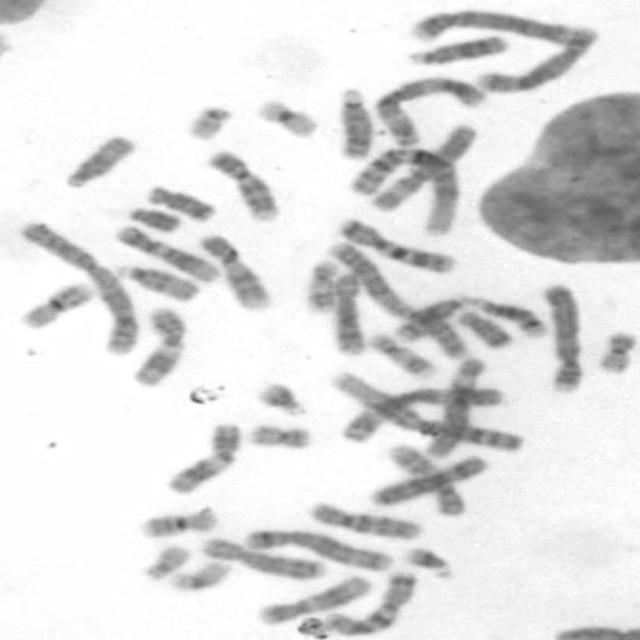A1: (322, 368, 529, 453), (341, 143, 461, 238)
A2: (322, 238, 468, 360), (15, 218, 142, 356)
A3: (335, 384, 504, 446), (368, 73, 489, 147)
B4: (402, 6, 584, 45), (534, 279, 586, 393)
B5: (237, 524, 395, 573), (478, 32, 602, 92)
C10: (381, 442, 472, 520), (304, 498, 426, 541)
C11: (160, 418, 244, 496), (125, 300, 191, 389)
C12: (112, 222, 224, 284), (250, 572, 372, 627)
C6: (362, 120, 480, 214), (418, 354, 487, 460)
C7: (330, 214, 457, 276), (319, 566, 421, 635)
C8: (196, 534, 327, 580), (325, 270, 367, 357)
C9: (193, 229, 273, 311), (201, 145, 282, 223)
D13: (401, 29, 512, 68), (332, 84, 376, 161)
D14: (387, 293, 474, 344), (469, 296, 549, 338)
D15: (59, 130, 137, 190), (111, 260, 201, 302)
E16: (14, 276, 95, 331), (134, 506, 221, 539)
E17: (362, 328, 440, 378), (301, 256, 341, 314)
E18: (140, 182, 219, 224), (453, 308, 515, 350)
F19: (250, 95, 322, 138), (165, 557, 233, 593)
F20: (242, 418, 316, 451), (590, 326, 638, 375)
G21: (248, 376, 312, 418), (398, 541, 456, 580)
G22: (179, 100, 234, 142), (137, 540, 191, 581)
X: (364, 449, 492, 508)
Y: (123, 202, 185, 233)
